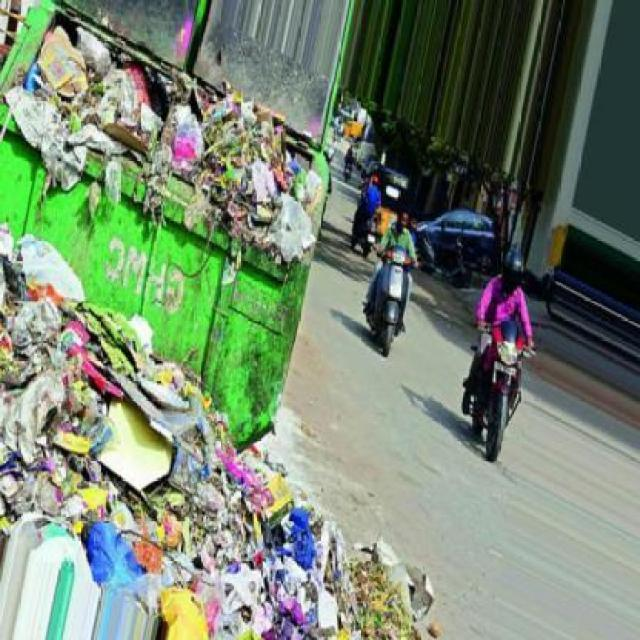garbage: (0, 294, 214, 637), (22, 28, 310, 254), (158, 475, 394, 638)
